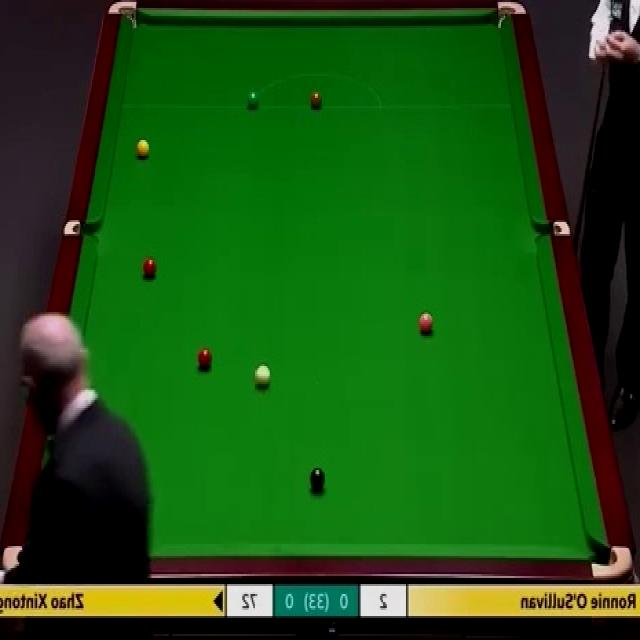pocket: (590, 543, 635, 585), (108, 0, 141, 32), (497, 1, 526, 28), (64, 218, 100, 237), (535, 220, 573, 235)
